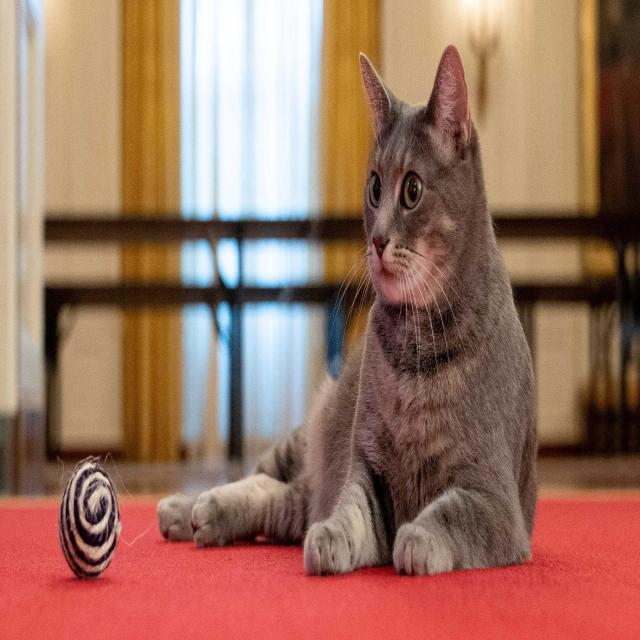Cat: (354, 39, 478, 324)
